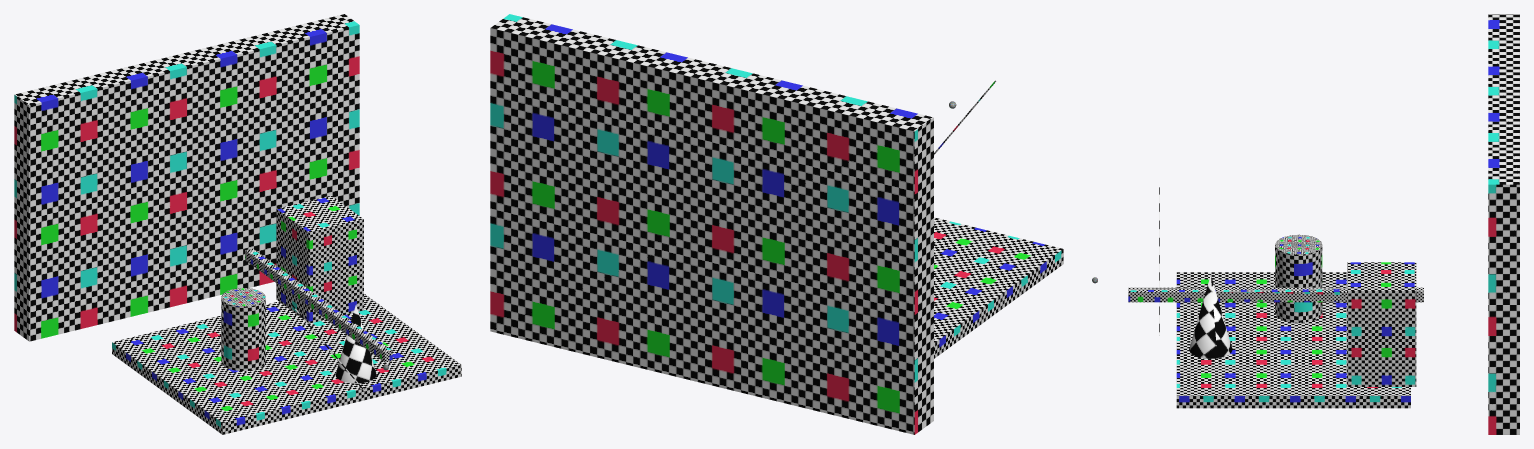
Rendered from dof_test1.fbx.
3 renders of one model, left to right at view 1: azimuth 30°, elevation 25°; view 2: azimuth 150°, elevation 25°; view 3: azimuth 270°, elevation 25°, orthographic. The views are drawn at different scales.
Parts seen in each view (by area): view 1: polySurface5; view 2: polySurface5; view 3: polySurface5.
Boxes of the visible parts, left/top/right/bottom form: polySurface5: left=14, top=14, right=461, bottom=434; polySurface5: left=490, top=14, right=1063, bottom=434; polySurface5: left=1092, top=14, right=1519, bottom=434.
Size of the model in its own units: 30.65 by 20.95 by 32.47.
Materials: 1 (1 with a texture image).
